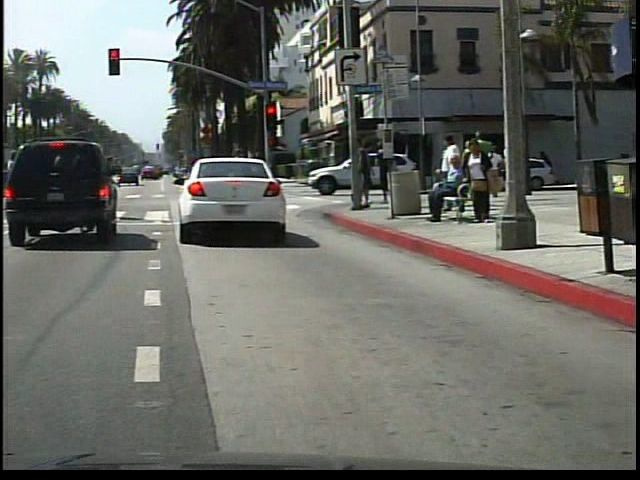person: (466, 134, 503, 231), (430, 155, 475, 222), (227, 141, 263, 218)
